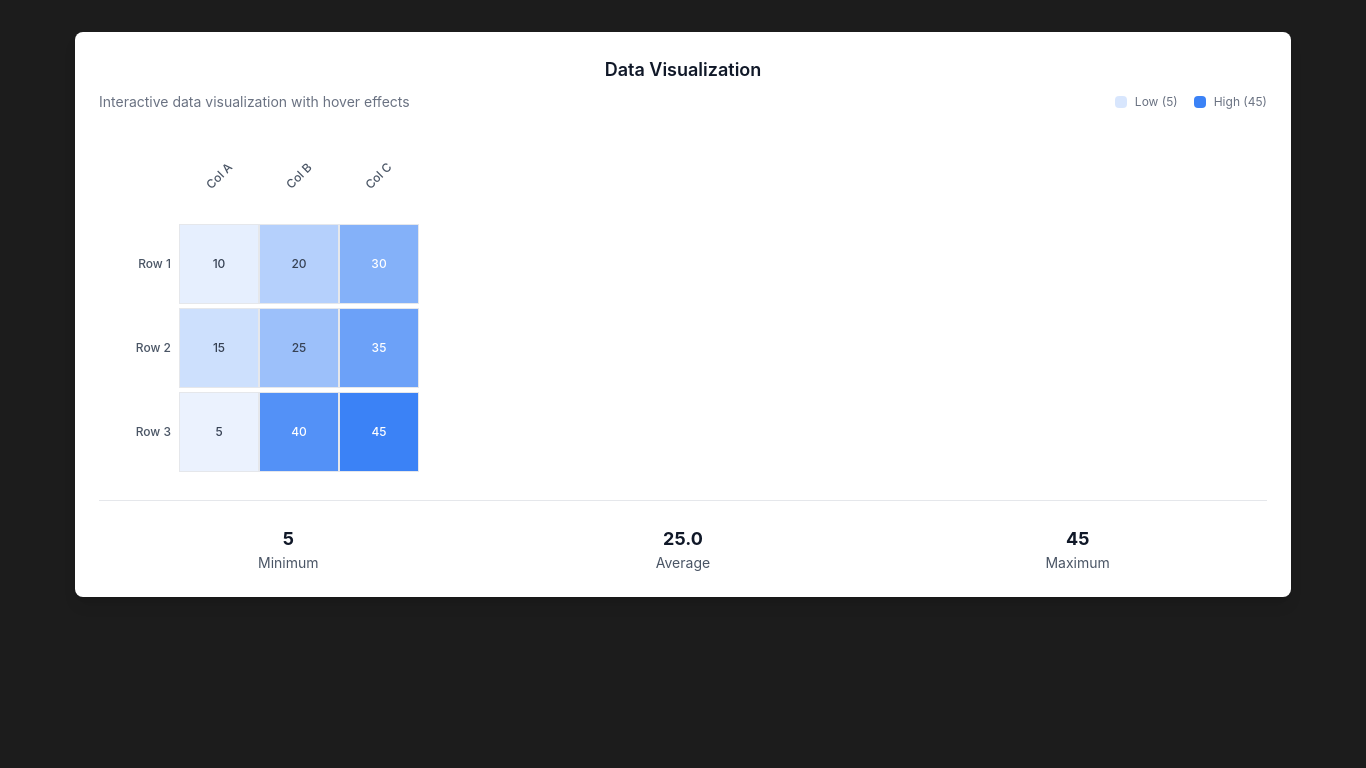
it: InteractiveDataGrid › shows tooltips on hover when enabled
Hover over the text "10" at [219, 264], box left=213, top=256, right=225, bottom=272
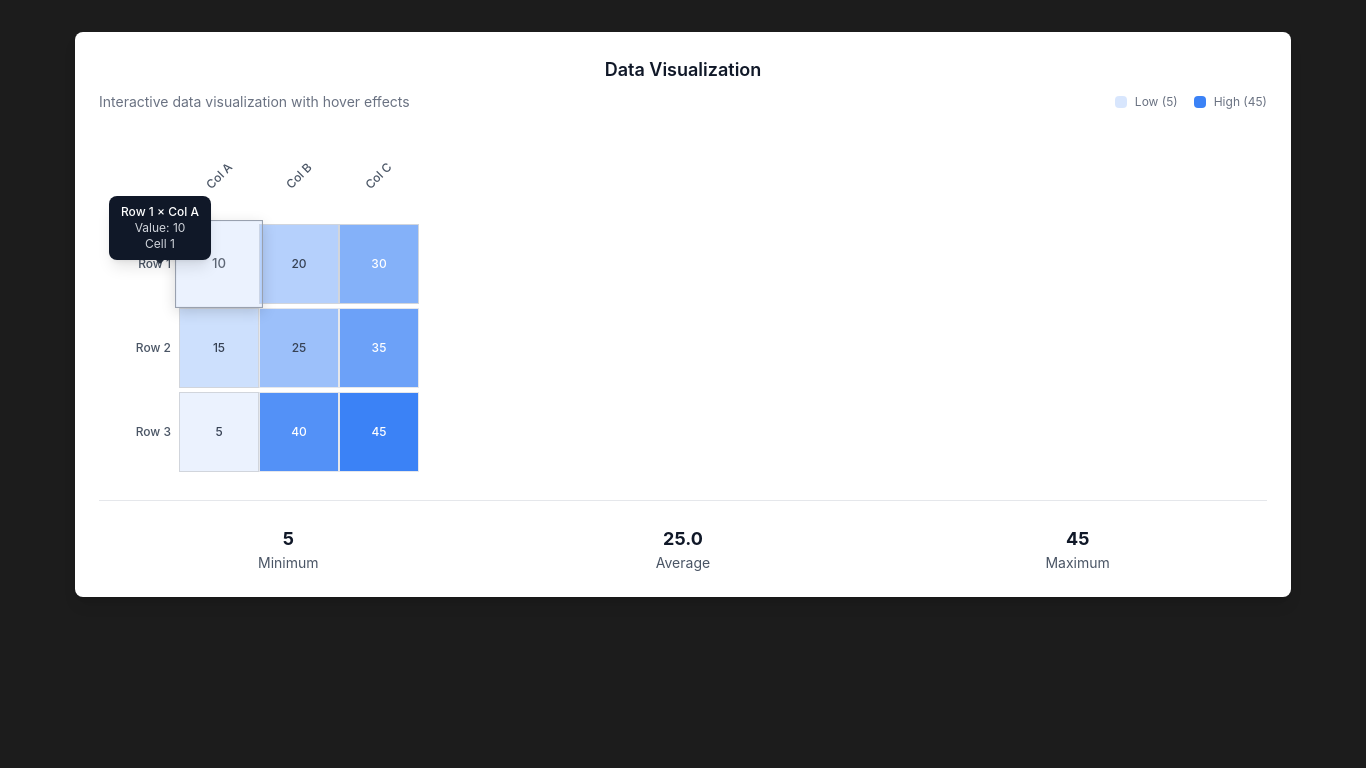
Check: the text "Row 1 × Col A" is shown, box left=121, top=204, right=199, bottom=220
Check: the text "Value: 10" is shown, box left=135, top=220, right=185, bottom=235
